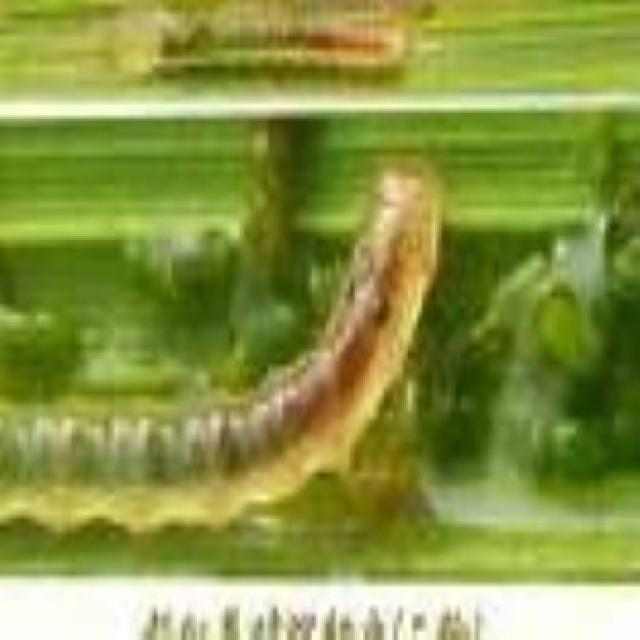rice leaf roller: (0, 162, 439, 529), (139, 0, 410, 70)
